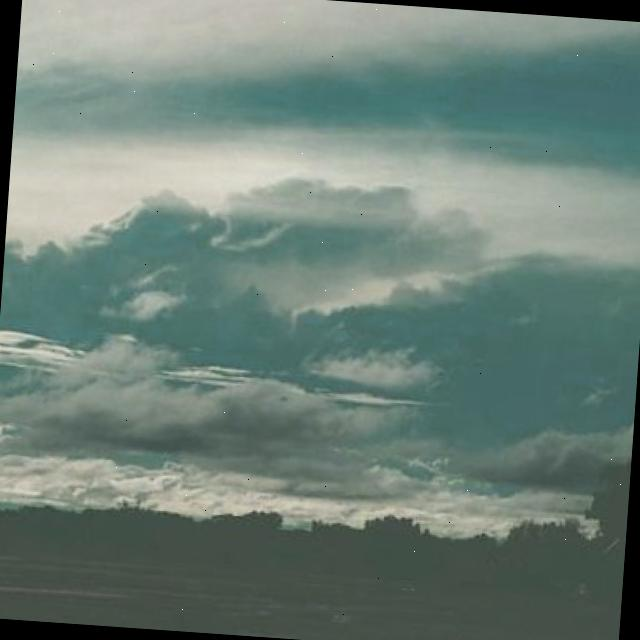St: (1, 71, 640, 537)
